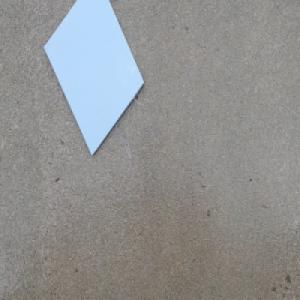PaintChip: (42, 0, 146, 157)
